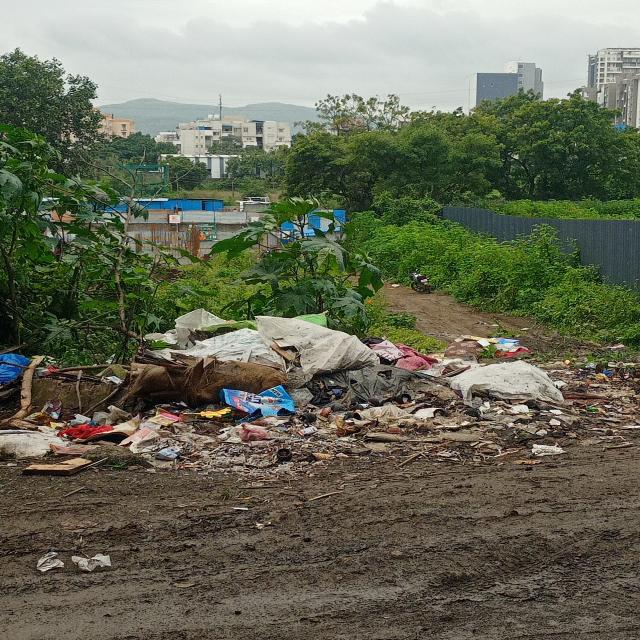garbage: (4, 318, 563, 462)
